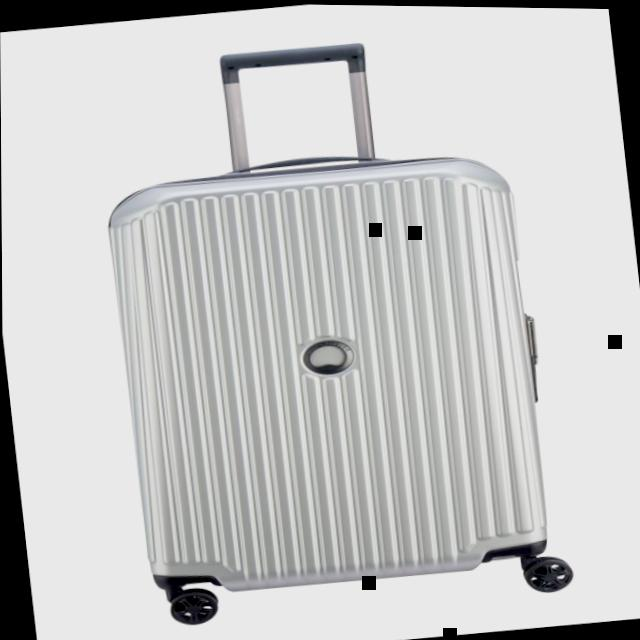luggage: (84, 123, 573, 639)
